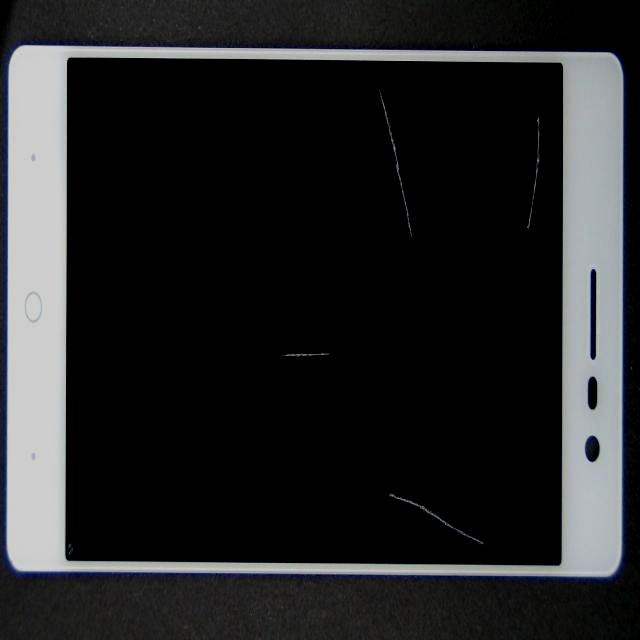scratch: (311, 299, 640, 640), (202, 169, 487, 499), (283, 0, 640, 213), (204, 57, 582, 128)
